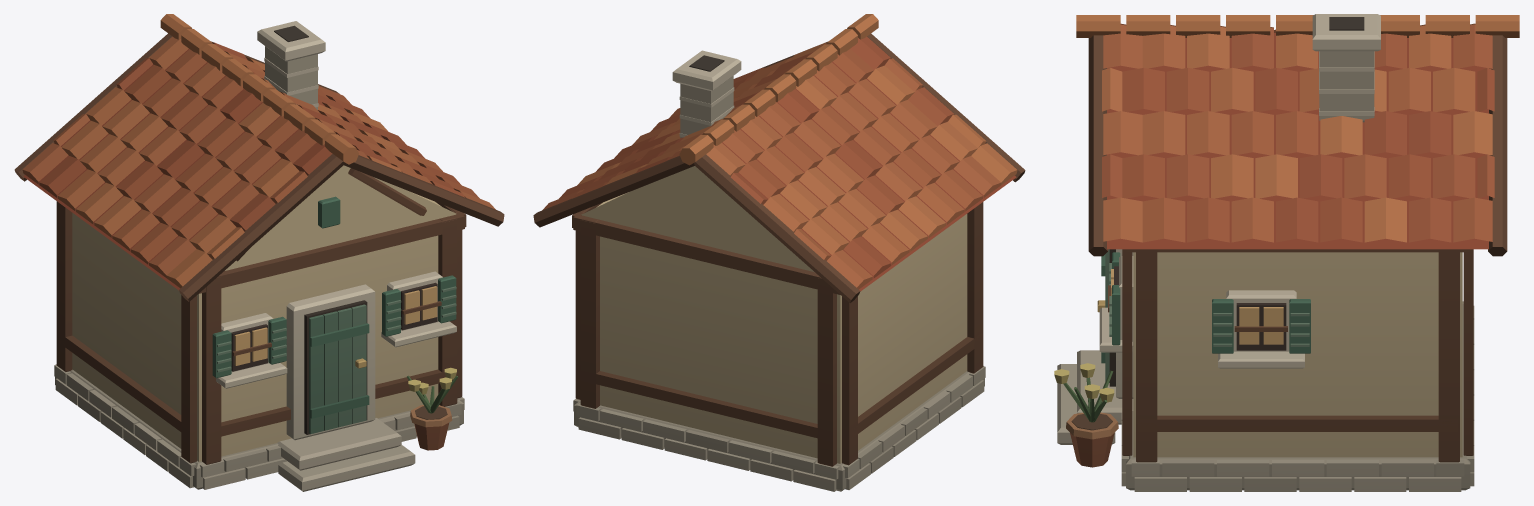
The model's file is valley.glb.
3 views of the same model, side by side, from view 1: azimuth 30°, elevation 25°; view 2: azimuth 150°, elevation 25°; view 3: azimuth 270°, elevation 25° (orthographic). The views are drawn at different scales.
Visible parts, largest first — view 1: House; view 2: House; view 3: House.
Boxes of the visible parts, x1,y1,x2,y2 form: House: (14,14,504,491); House: (533,14,1025,491); House: (1054,14,1519,491).
Bounding box in the file's own units: 2.96 × 3.04 × 3.06.
